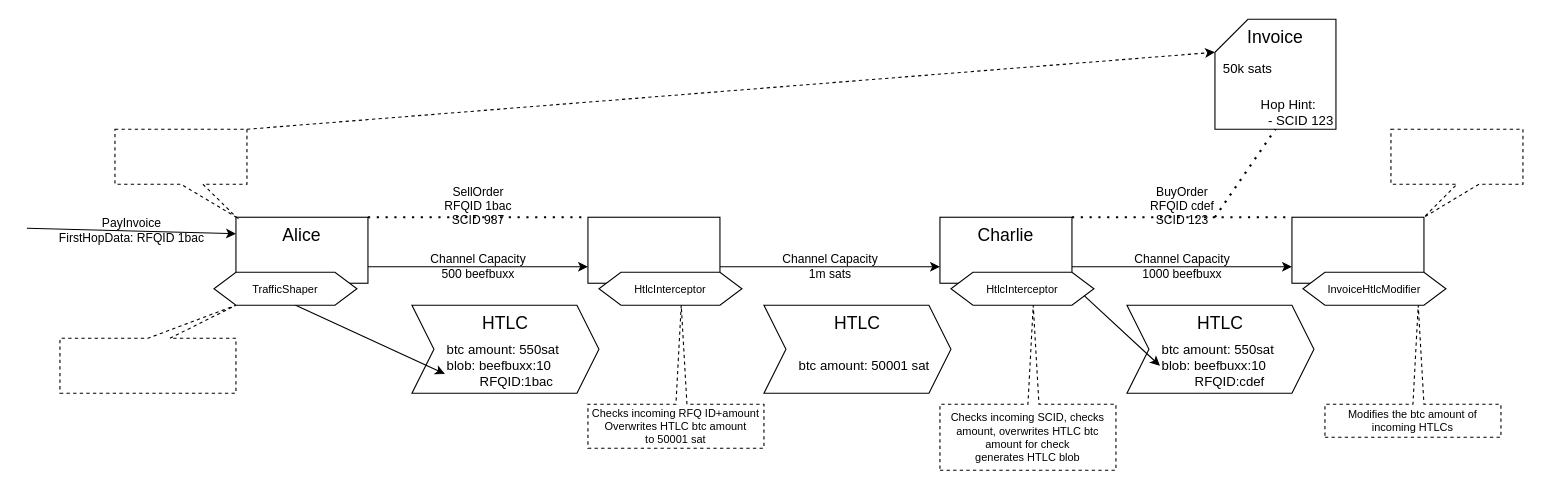
Some shapes in this 1542 by 490 pixel diagram are drawn without their labels. The centre of each missing label's shape, as x and y in pixels:
"Bob" belongs at (x=653, y=249).
"Chooses outgoing channel Generates the HTLC blob Overwrites HTLC btc amount" belongs at (x=147, y=348).
"Dave" belongs at (x=1357, y=249).
"I want to pay this invoice, how many beefbuxx is this?" belongs at (x=180, y=172).
"I want to receive 10 beefbuxx" belongs at (x=1456, y=172).
